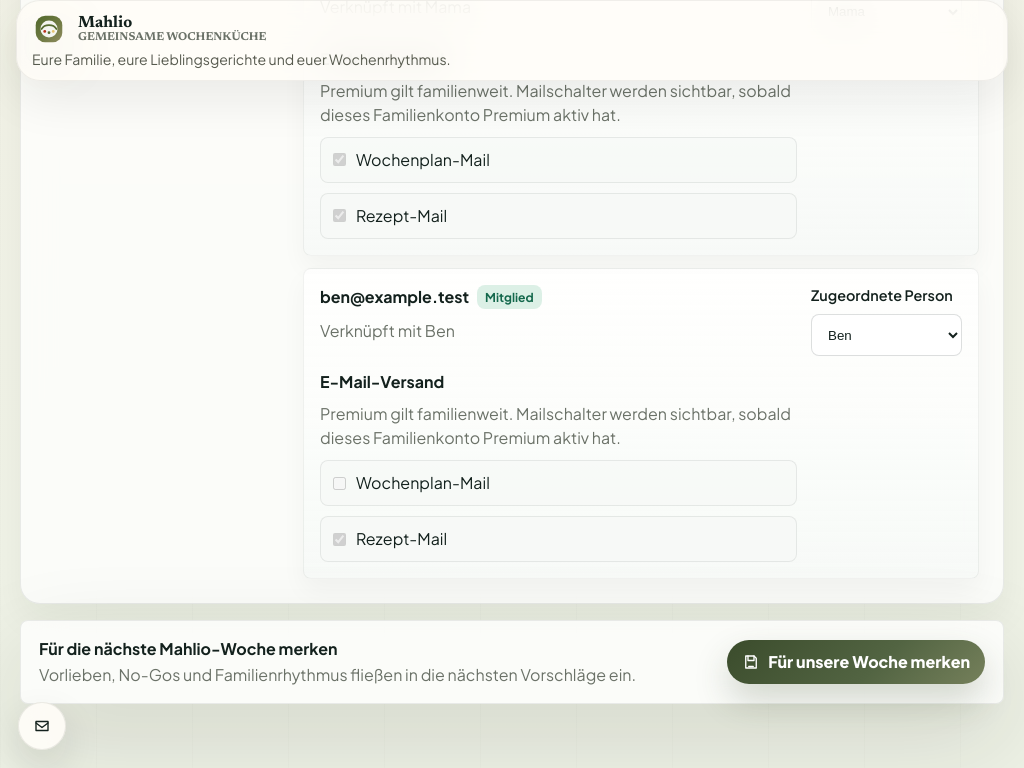
Test: Mealplanner app › stores per-account mail settings from the family profile area
(page scrolled)
Click the checkbox labelled "Wochenplan-Mail" below "Verknüpft mit Ben".
click(340, 483)  # box [333,476,346,489]
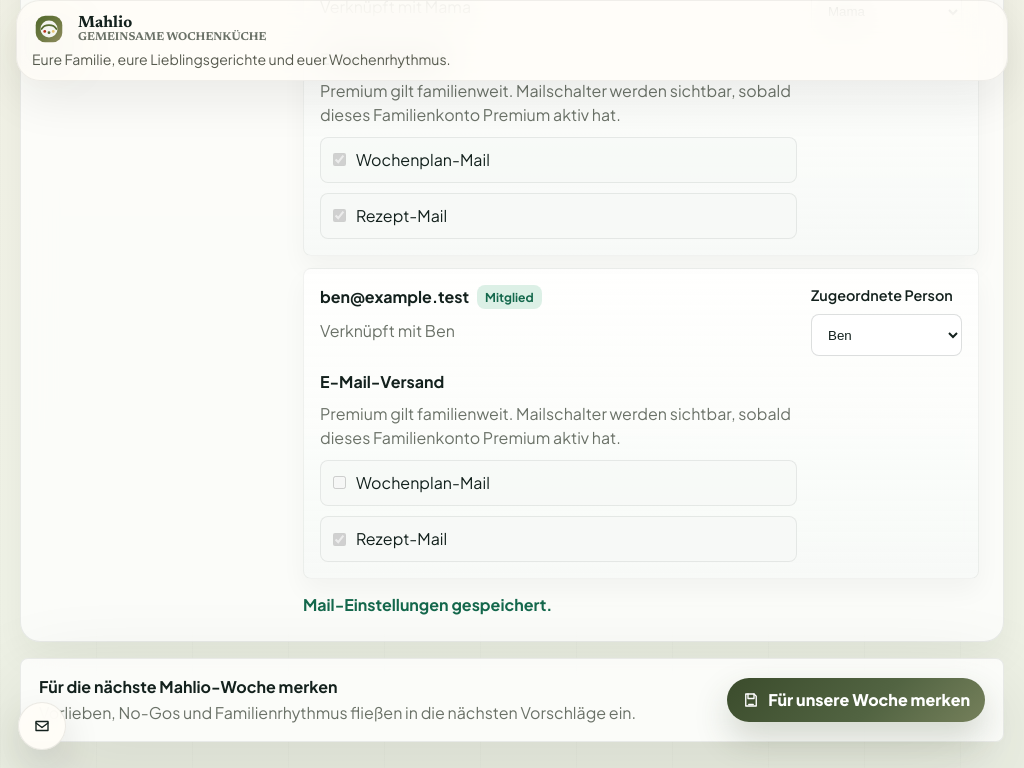
Now the text "Mail-Einstellungen gespeichert." is shown, box [303,594,552,615]
